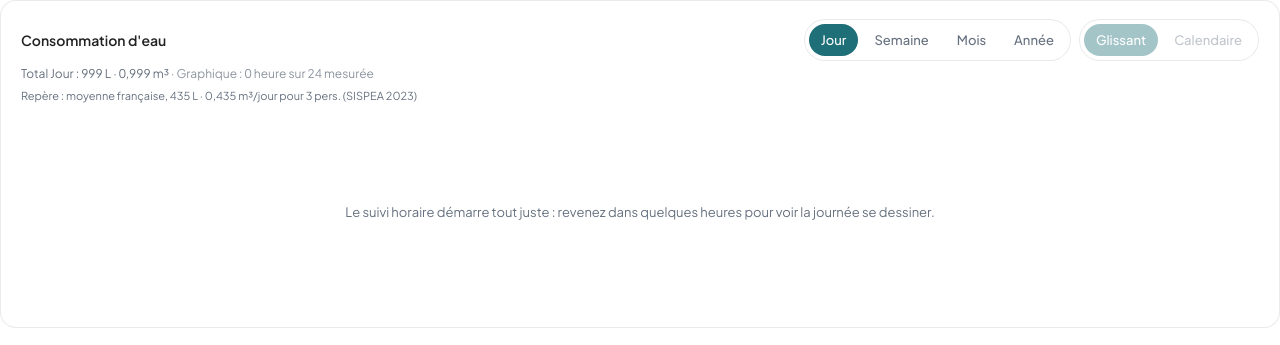
Test: WaterConsumptionChart — consumption history › the year has no equivalent at the station: it keeps the sum of the monthly points (already complete)
Click the tab with class "segmented__item" showing "Année" at (1034, 40), box [1002,24,1066,56]
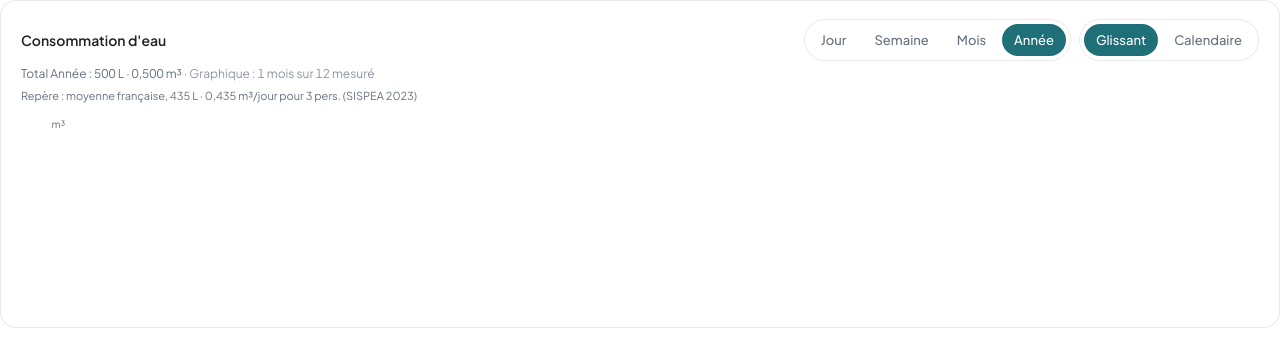
Result: the element with class "chart__total" shows "500 L" at [21,66,184,81]
Result: the element with class "chart__total" no longer shows "999 L"
